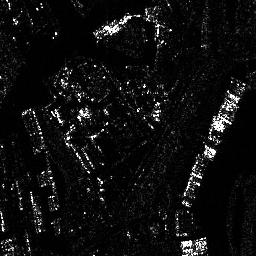ship: (92, 18, 118, 37)
